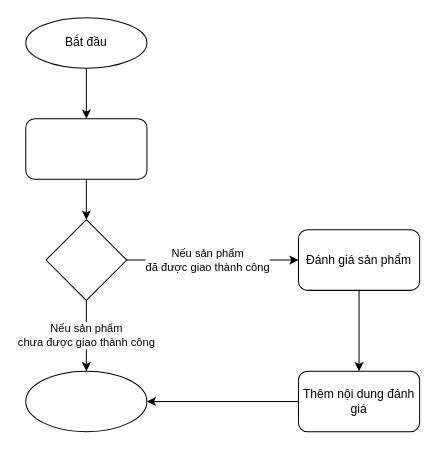
The diagram is 437 pixels wide and 449 high, and some of its shapes have lost their labels. Each missing label, with the centre of its shape:
"Kết thúc" goes at (x=86, y=401).
"Xem danh sách đơn hàng đã đặt" goes at (x=86, y=148).
